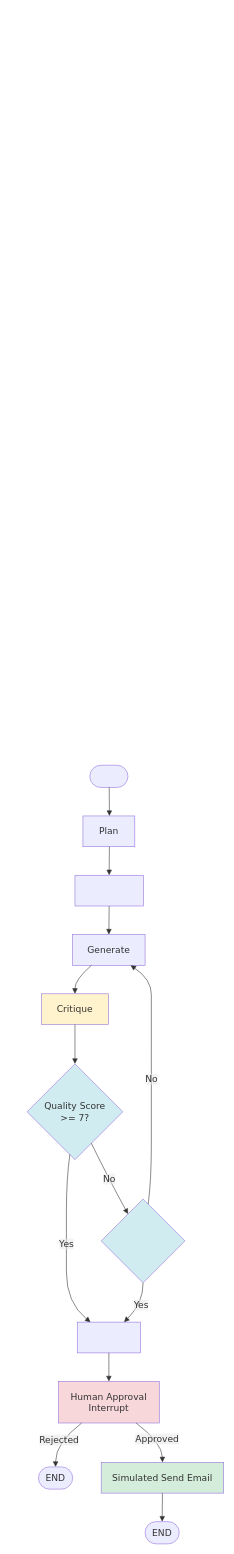
Image size: 234x1554. Some labels were removed from this diagram. Each missing label, with the centre of its shape:
Format: the point at 109,1337
Max Retries Reached?: the point at 143,1240
Retrieve: the point at 108,890
START: the point at 108,776
